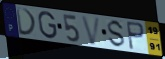5: (62, 12, 82, 43)
D: (15, 6, 38, 37)
G: (37, 11, 58, 40)
P: (125, 20, 146, 52)
S: (107, 20, 127, 50)
V: (80, 15, 102, 47)
